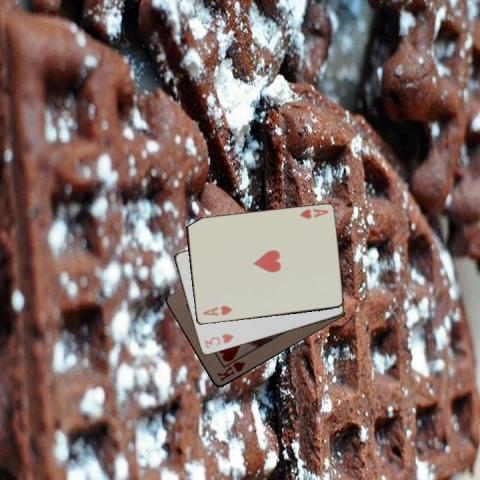3h: (201, 331, 235, 350)
Ah: (297, 205, 330, 221), (200, 303, 233, 318)
Kh: (214, 359, 247, 383)
